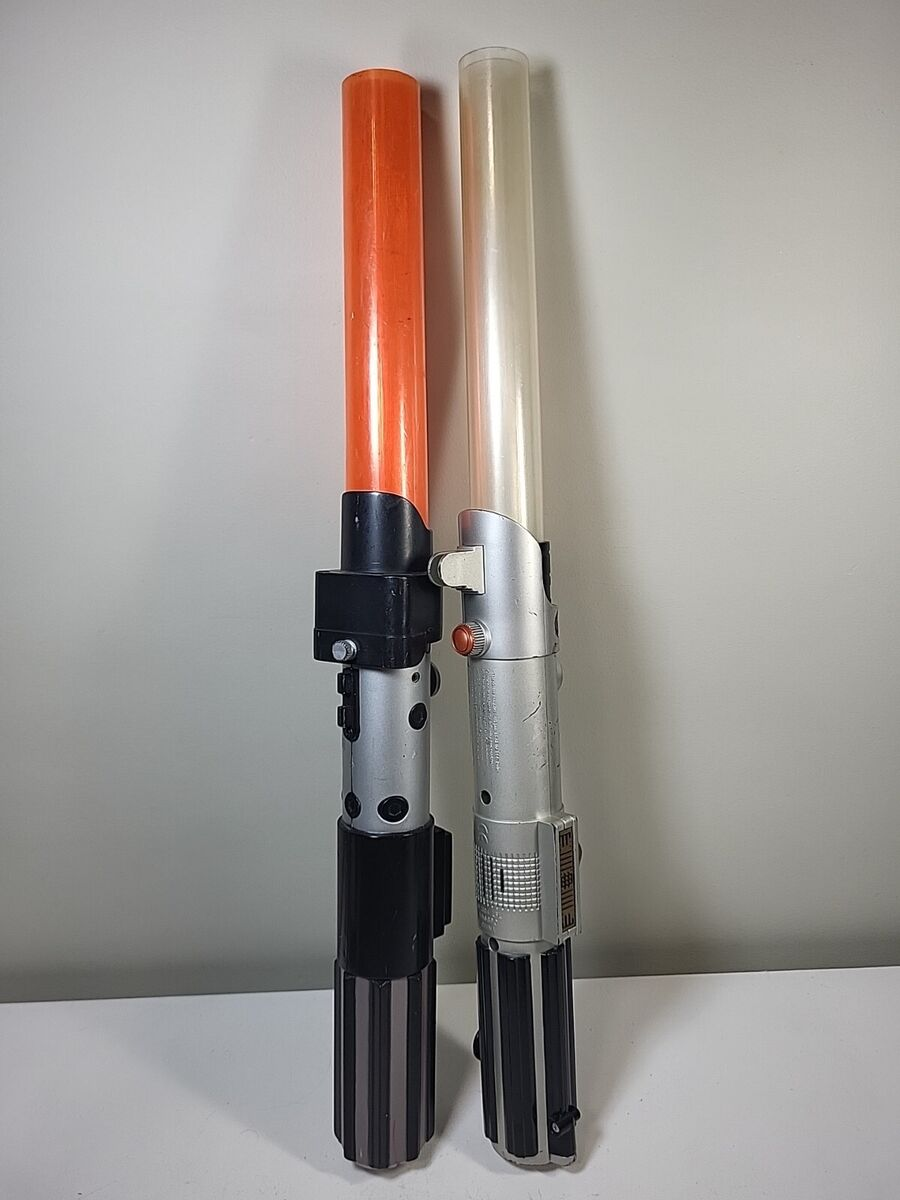lightsaber: (284, 0, 454, 1134), (471, 17, 574, 1200)
